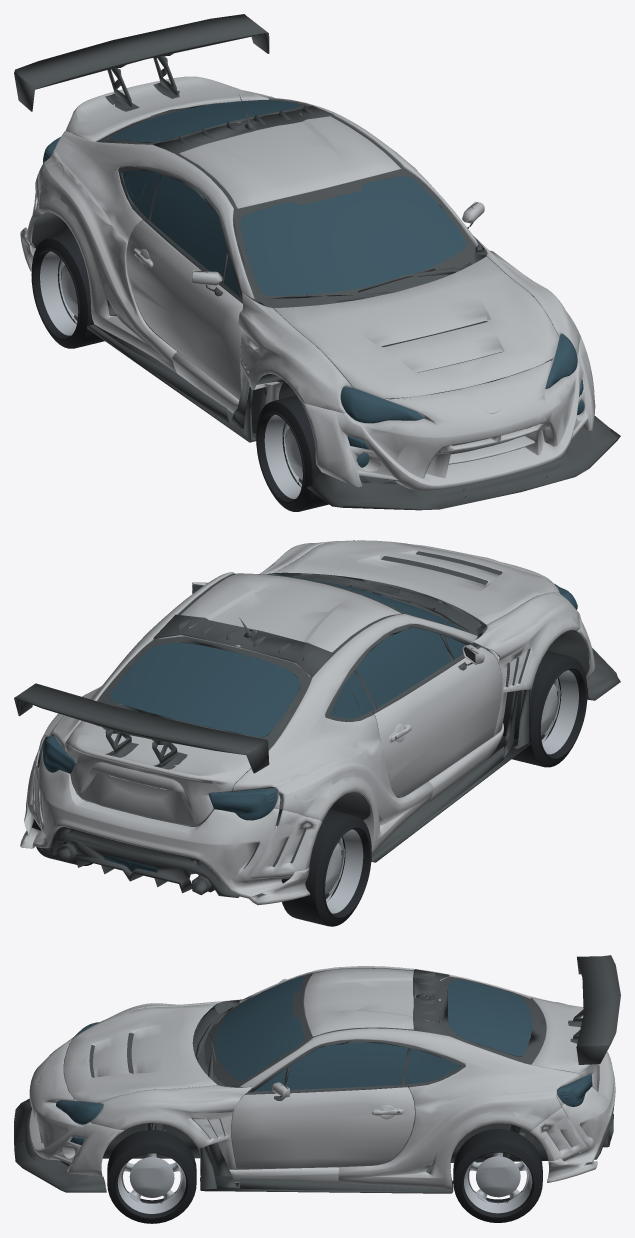
Rendered from wraith.glb.
3 views of the same model, one above another, from view 1: azimuth 30°, elevation 25°; view 2: azimuth 150°, elevation 25°; view 3: azimuth 270°, elevation 25° (orthographic). The views are drawn at different scales.
Visible parts, largest first — view 1: paint, trim, glass, front right tire, rear right tire, front right alloy, rear right alloy; view 2: paint, trim, glass, rear right tire, front right tire, rear right alloy, front right alloy; view 3: paint, trim, glass, front left tire, rear left tire, rear left alloy, front left alloy.
Boxes of the visible parts, left/top/right/bottom form: paint: left=20, top=76, right=595, bottom=490; trim: left=14, top=14, right=620, bottom=510; glass: left=43, top=100, right=584, bottom=467; front right tire: left=256, top=395, right=328, bottom=511; rear right tire: left=31, top=232, right=104, bottom=348; front right alloy: left=264, top=414, right=302, bottom=498; rear right alloy: left=40, top=251, right=78, bottom=335; paint: left=20, top=540, right=595, bottom=905; trim: left=14, top=545, right=620, bottom=897; glass: left=43, top=540, right=577, bottom=872; rear right tire: left=281, top=809, right=371, bottom=926; front right tire: left=502, top=651, right=587, bottom=767; rear right alloy: left=325, top=829, right=363, bottom=913; front right alloy: left=540, top=670, right=578, bottom=754; paint: left=29, top=966, right=615, bottom=1188; trim: left=14, top=955, right=620, bottom=1193; glass: left=56, top=977, right=592, bottom=1145; front left tire: left=107, top=1129, right=196, bottom=1223; rear left tire: left=453, top=1129, right=542, bottom=1222; rear left alloy: left=464, top=1152, right=532, bottom=1213; front left alloy: left=117, top=1153, right=185, bottom=1213.
Size of the model in its own units: 2.19 by 1.77 by 5.
